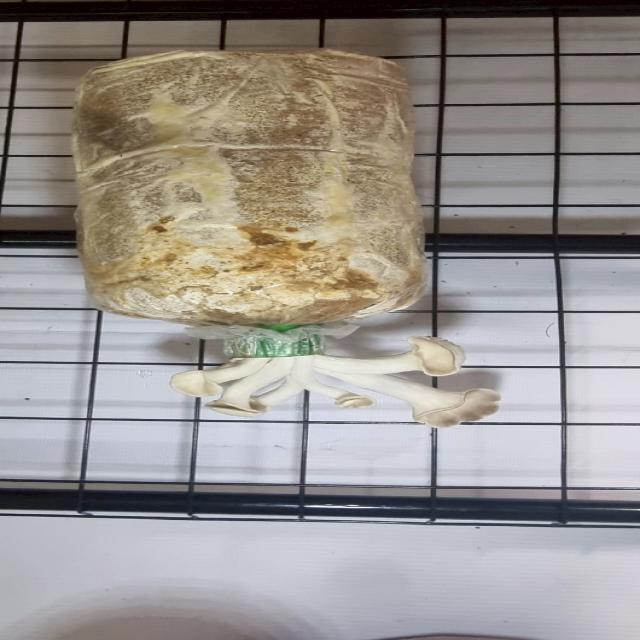normal: (151, 333, 516, 431)
